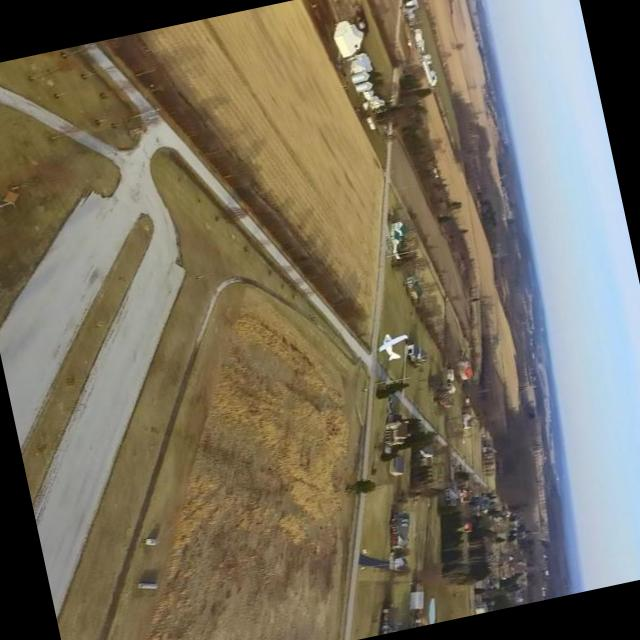UAV: (337, 300, 430, 368)
